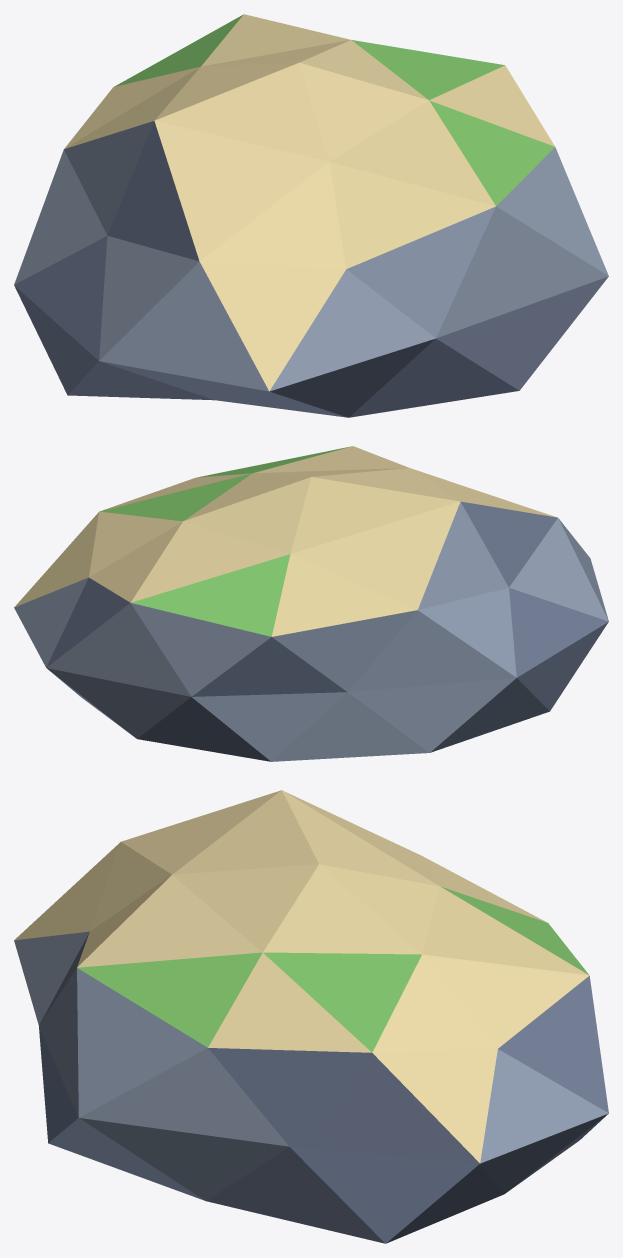
The model's file is rock_boulder_b_reef.fbx.
The picture shows the model from 3 angles, top to bottom: view 1: azimuth 30°, elevation 25°; view 2: azimuth 150°, elevation 25°; view 3: azimuth 270°, elevation 25°; orthographic projection. The views are drawn at different scales.
Parts seen in each view (by area): view 1: rock_boulder_b_reef; view 2: rock_boulder_b_reef; view 3: rock_boulder_b_reef.
Part boxes in pixels (x1,y1,x2,y2): rock_boulder_b_reef: [14, 14, 608, 417]; rock_boulder_b_reef: [14, 446, 608, 761]; rock_boulder_b_reef: [14, 790, 608, 1243].
Size of the model in its own units: 1327 by 543 by 1218.
1 material, 1 textured.
